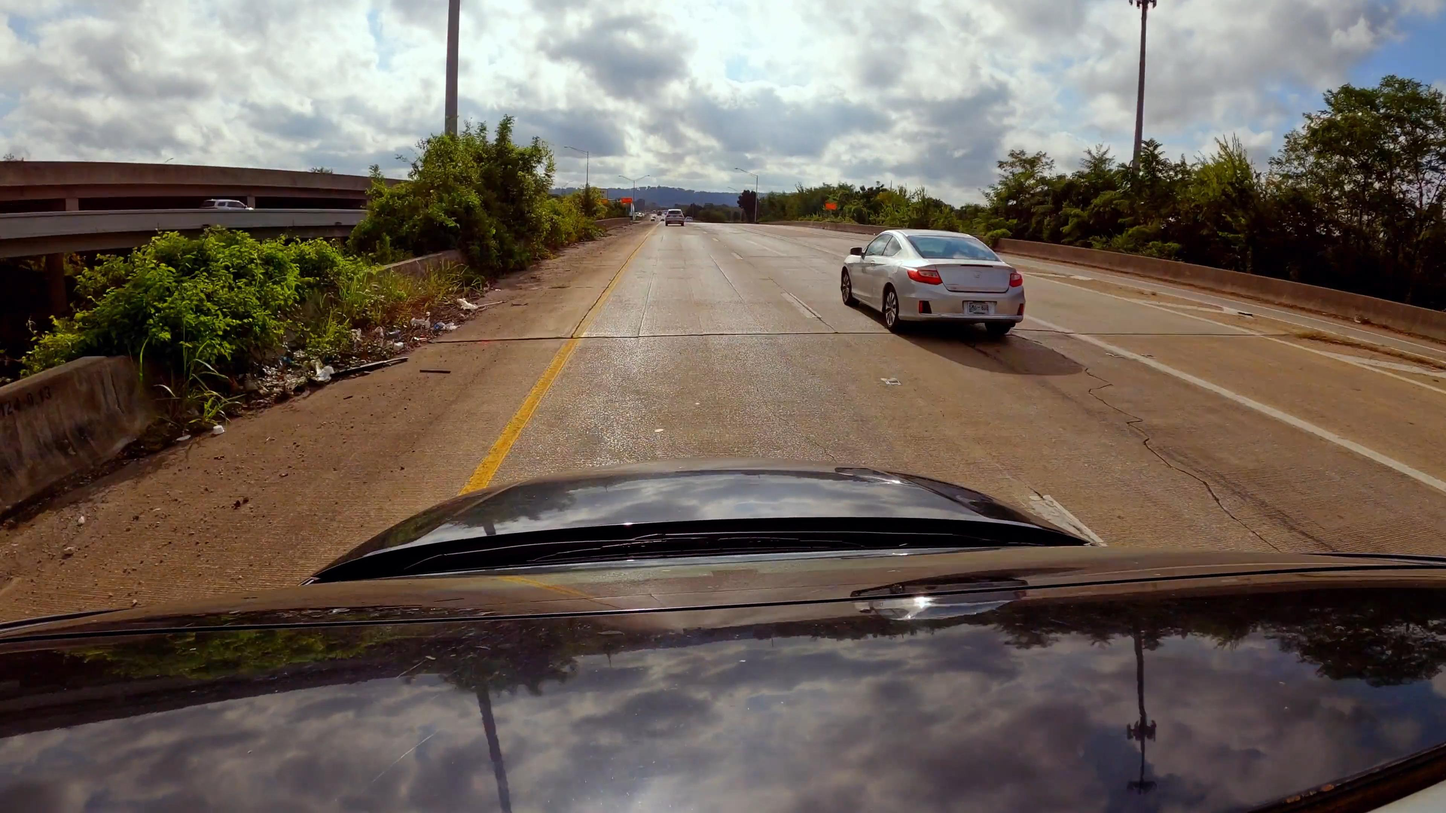dry: (0, 218, 1446, 622)
